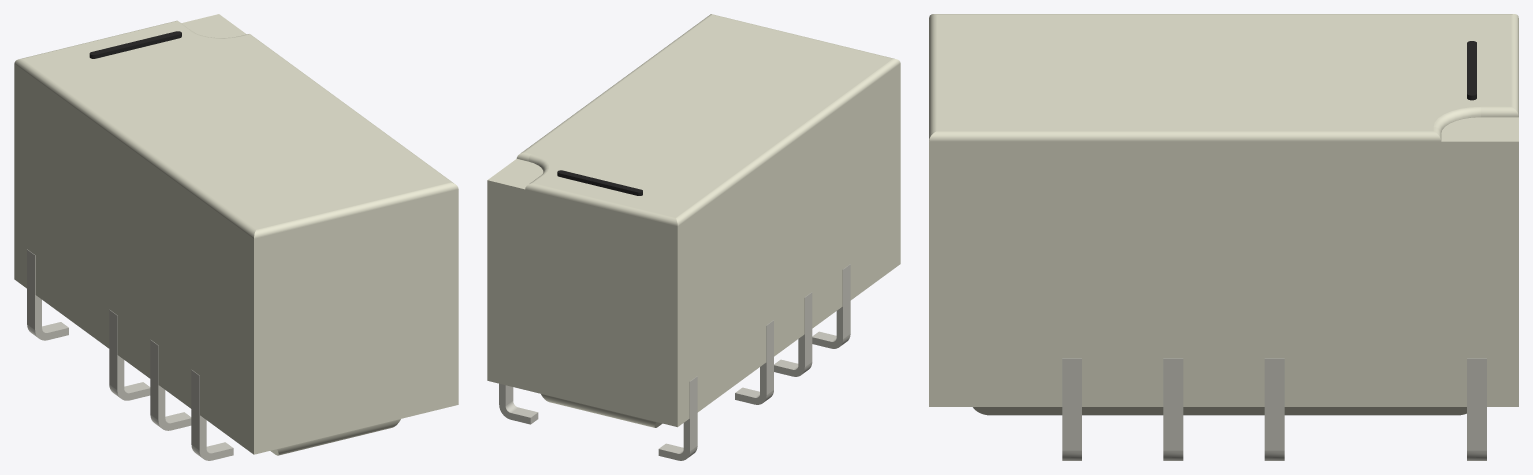
The model's file is kc-relay_dpdt_omron_g6s-2g.glb.
3 renders of one model, left to right at view 1: azimuth 30°, elevation 25°; view 2: azimuth 150°, elevation 25°; view 3: azimuth 270°, elevation 25°, orthographic. The views are drawn at different scales.
Parts seen in each view (by area): view 1: 0.75_0.75_0.6666666666666666_0, 0.6666666666666666_0.6666666666666666_0.5833333333333334_0.8, 0_0_0_0; view 2: 0.75_0.75_0.6666666666666666_0, 0.6666666666666666_0.6666666666666666_0.5833333333333334_0.8, 0_0_0_0; view 3: 0.75_0.75_0.6666666666666666_0, 0.6666666666666666_0.6666666666666666_0.5833333333333334_0.8, 0_0_0_0.
Boxes of the visible parts, bbox=[...] form: 0.75_0.75_0.6666666666666666_0: bbox=[14, 14, 458, 455]; 0.6666666666666666_0.6666666666666666_0.5833333333333334_0.8: bbox=[27, 249, 233, 460]; 0_0_0_0: bbox=[89, 31, 181, 58]; 0.75_0.75_0.6666666666666666_0: bbox=[487, 14, 900, 427]; 0.6666666666666666_0.6666666666666666_0.5833333333333334_0.8: bbox=[499, 264, 850, 460]; 0_0_0_0: bbox=[557, 170, 642, 195]; 0.75_0.75_0.6666666666666666_0: bbox=[929, 14, 1518, 415]; 0.6666666666666666_0.6666666666666666_0.5833333333333334_0.8: bbox=[1062, 358, 1486, 460]; 0_0_0_0: bbox=[1467, 41, 1476, 100].
Size of the model in its own units: 0.7324 by 0.933 by 1.48.
